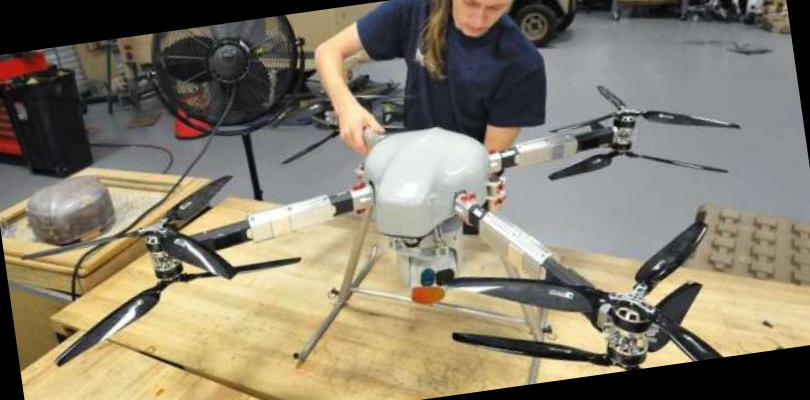drone: (1, 48, 771, 400)
